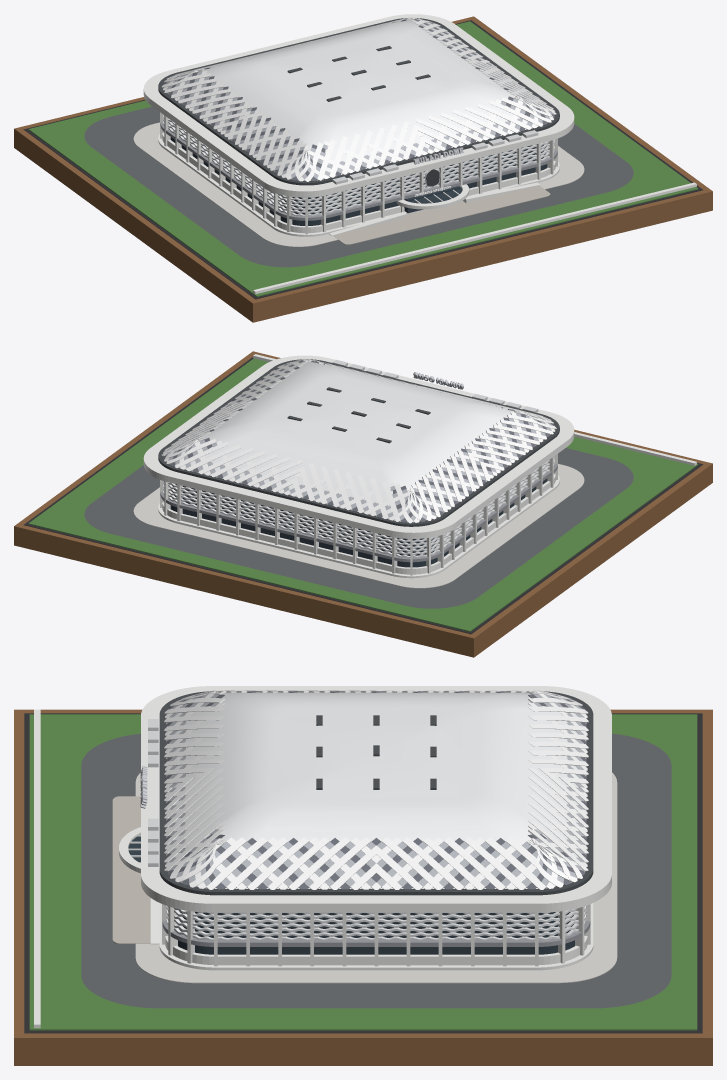
File: muladi_dome_draco.glb
The picture shows the model from 3 angles, top to bottom: view 1: azimuth 30°, elevation 25°; view 2: azimuth 150°, elevation 25°; view 3: azimuth 270°, elevation 25°; orthographic projection. The views are drawn at different scales.
Visible parts, largest first — view 1: Roof_Besek_Dome, Diorama_Wood_Base, Diorama_Green_Turf, Roof_Besek_3D_Weave, Diorama_Perimeter_Road, Roof_Overhanging_Eaves, Facade_Wavy_Besek_Louvers, Diorama_Building_Plaza_Apron, Facade_Vertical_Columns, Diorama_Muladi_Plaza_Forecourt, Roof_Dark_Recess_Channel, Diorama_Black_Border (+8 smaller); view 2: Roof_Besek_Dome, Diorama_Wood_Base, Diorama_Green_Turf, Diorama_Perimeter_Road, Roof_Besek_3D_Weave, Roof_Overhanging_Eaves, Diorama_Building_Plaza_Apron, Facade_Wavy_Besek_Louvers, Facade_Vertical_Columns, Roof_Dark_Recess_Channel, Diorama_Black_Border, GroundFloor_LowWalls (+5 smaller); view 3: Roof_Besek_Dome, Diorama_Green_Turf, Diorama_Perimeter_Road, Roof_Besek_3D_Weave, Diorama_Wood_Base, Roof_Overhanging_Eaves, Diorama_Building_Plaza_Apron, Facade_Wavy_Besek_Louvers, Diorama_Black_Border, Building_Core_GlassWall, Roof_Dark_Recess_Channel, GroundFloor_LowWalls (+7 smaller).
Part boxes in pixels (bbox=[...]): Roof_Besek_Dome: bbox=[168, 20, 543, 180]; Diorama_Wood_Base: bbox=[14, 16, 712, 322]; Diorama_Green_Turf: bbox=[28, 21, 698, 296]; Roof_Besek_3D_Weave: bbox=[161, 17, 556, 181]; Diorama_Perimeter_Road: bbox=[84, 106, 633, 267]; Roof_Overhanging_Eaves: bbox=[143, 14, 574, 197]; Facade_Wavy_Besek_Louvers: bbox=[163, 114, 554, 216]; Diorama_Building_Plaza_Apron: bbox=[133, 122, 584, 246]; Facade_Vertical_Columns: bbox=[160, 112, 557, 234]; Diorama_Muladi_Plaza_Forecourt: bbox=[333, 185, 550, 244]; Roof_Dark_Recess_Channel: bbox=[158, 18, 559, 185]; Diorama_Black_Border: bbox=[23, 20, 702, 299]; Roof_Besek_Dome: bbox=[174, 361, 550, 522]; Diorama_Wood_Base: bbox=[14, 351, 712, 657]; Diorama_Green_Turf: bbox=[28, 358, 698, 631]; Diorama_Perimeter_Road: bbox=[84, 448, 633, 608]; Roof_Besek_3D_Weave: bbox=[161, 359, 556, 523]; Roof_Overhanging_Eaves: bbox=[143, 355, 574, 538]; Diorama_Building_Plaza_Apron: bbox=[133, 464, 584, 588]; Facade_Wavy_Besek_Louvers: bbox=[163, 456, 554, 558]; Facade_Vertical_Columns: bbox=[160, 454, 557, 575]; Roof_Dark_Recess_Channel: bbox=[158, 359, 559, 526]; Diorama_Black_Border: bbox=[24, 357, 702, 634]; GroundFloor_LowWalls: bbox=[162, 474, 555, 574]; Roof_Besek_Dome: bbox=[166, 692, 586, 888]; Diorama_Green_Turf: bbox=[29, 714, 697, 1030]; Diorama_Perimeter_Road: bbox=[81, 733, 671, 1008]; Roof_Besek_3D_Weave: bbox=[164, 690, 588, 889]; Diorama_Wood_Base: bbox=[14, 709, 712, 1065]; Roof_Overhanging_Eaves: bbox=[141, 686, 611, 912]; Diorama_Building_Plaza_Apron: bbox=[135, 772, 617, 983]; Facade_Wavy_Besek_Louvers: bbox=[166, 906, 586, 940]; Diorama_Black_Border: bbox=[24, 713, 702, 1033]; Building_Core_GlassWall: bbox=[178, 910, 574, 954]; Roof_Dark_Recess_Channel: bbox=[159, 691, 593, 895]; GroundFloor_LowWalls: bbox=[165, 936, 587, 965].
Bounding box in the file's own units: 30 × 6.48 × 27.
